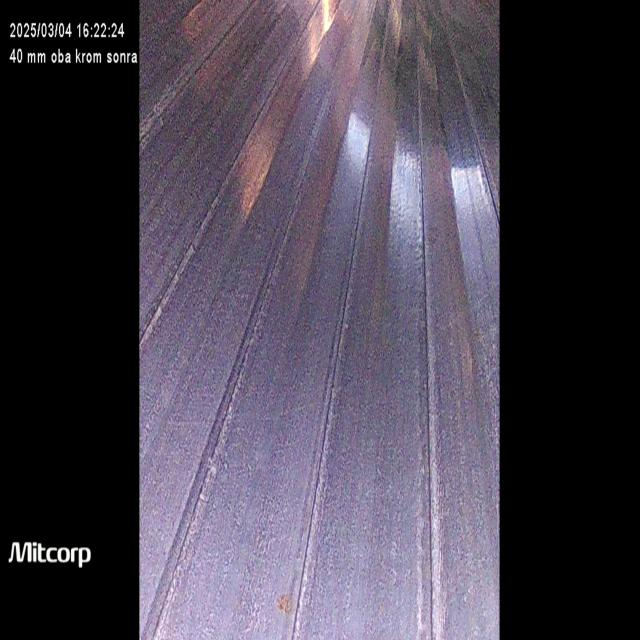hata_4.2: (277, 578, 301, 635)
hata_8.1: (144, 246, 288, 638), (138, 168, 228, 363)
